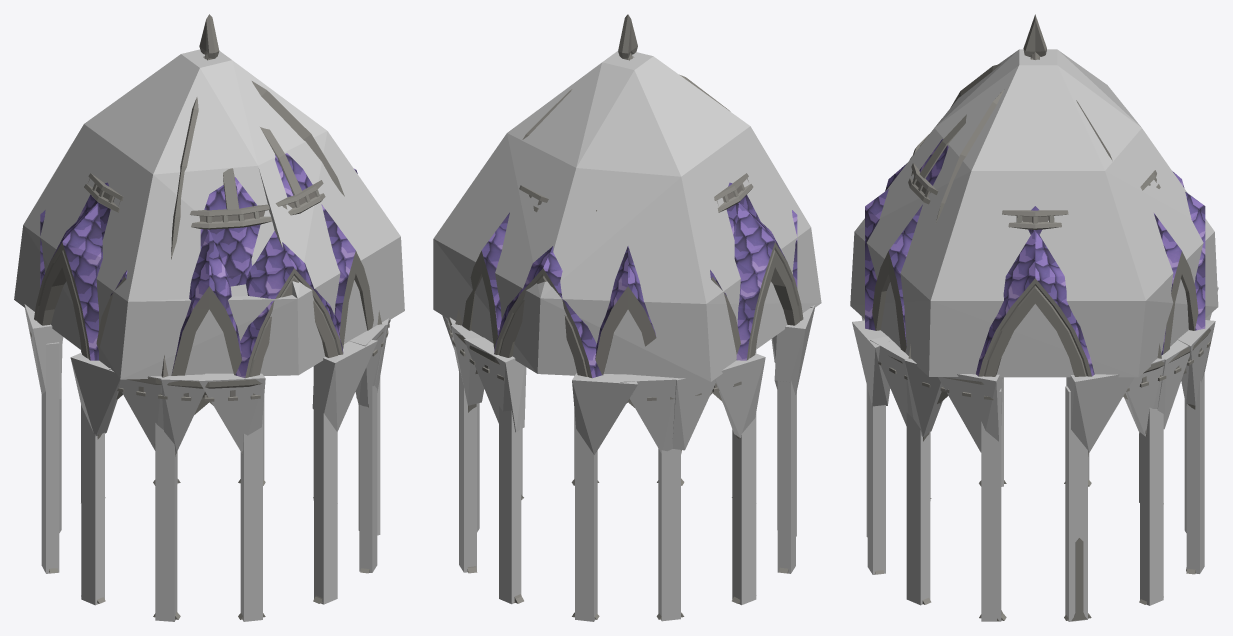
Rendered from SM_Bld_Gazebo_02.fbx.
3 renders of one model, left to right at view 1: azimuth 30°, elevation 25°; view 2: azimuth 150°, elevation 25°; view 3: azimuth 270°, elevation 25°, orthographic.
Visible parts, largest first — view 1: SM_Bld_Gazebo_02_ConvexHulls, SM_Bld_Gazebo_02; view 2: SM_Bld_Gazebo_02_ConvexHulls, SM_Bld_Gazebo_02; view 3: SM_Bld_Gazebo_02_ConvexHulls, SM_Bld_Gazebo_02.
Boxes of the visible parts, box(x1,y1,x2,y2) form: SM_Bld_Gazebo_02_ConvexHulls: box(14, 49, 404, 621); SM_Bld_Gazebo_02: box(30, 14, 389, 619); SM_Bld_Gazebo_02_ConvexHulls: box(433, 51, 821, 621); SM_Bld_Gazebo_02: box(447, 14, 803, 619); SM_Bld_Gazebo_02_ConvexHulls: box(850, 49, 1218, 621); SM_Bld_Gazebo_02: box(865, 14, 1210, 620).
Size of the model in its own units: 612 by 618 by 995.
3 materials, 2 textured.
